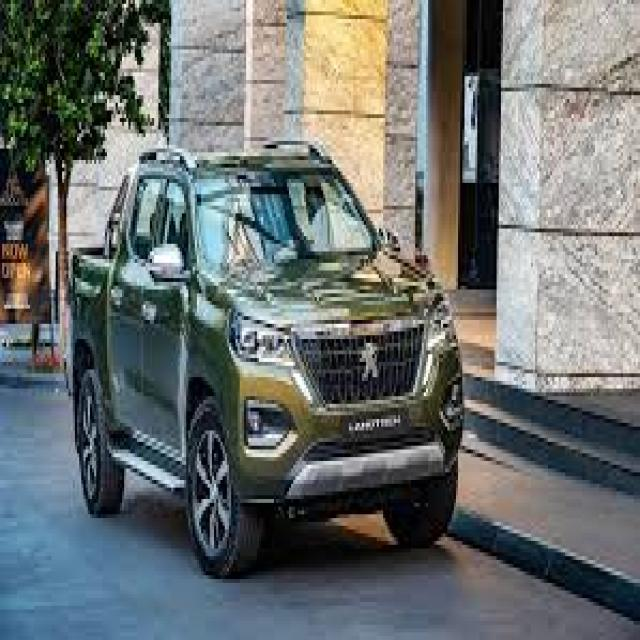Pickup Trucks: (68, 145, 464, 579)
